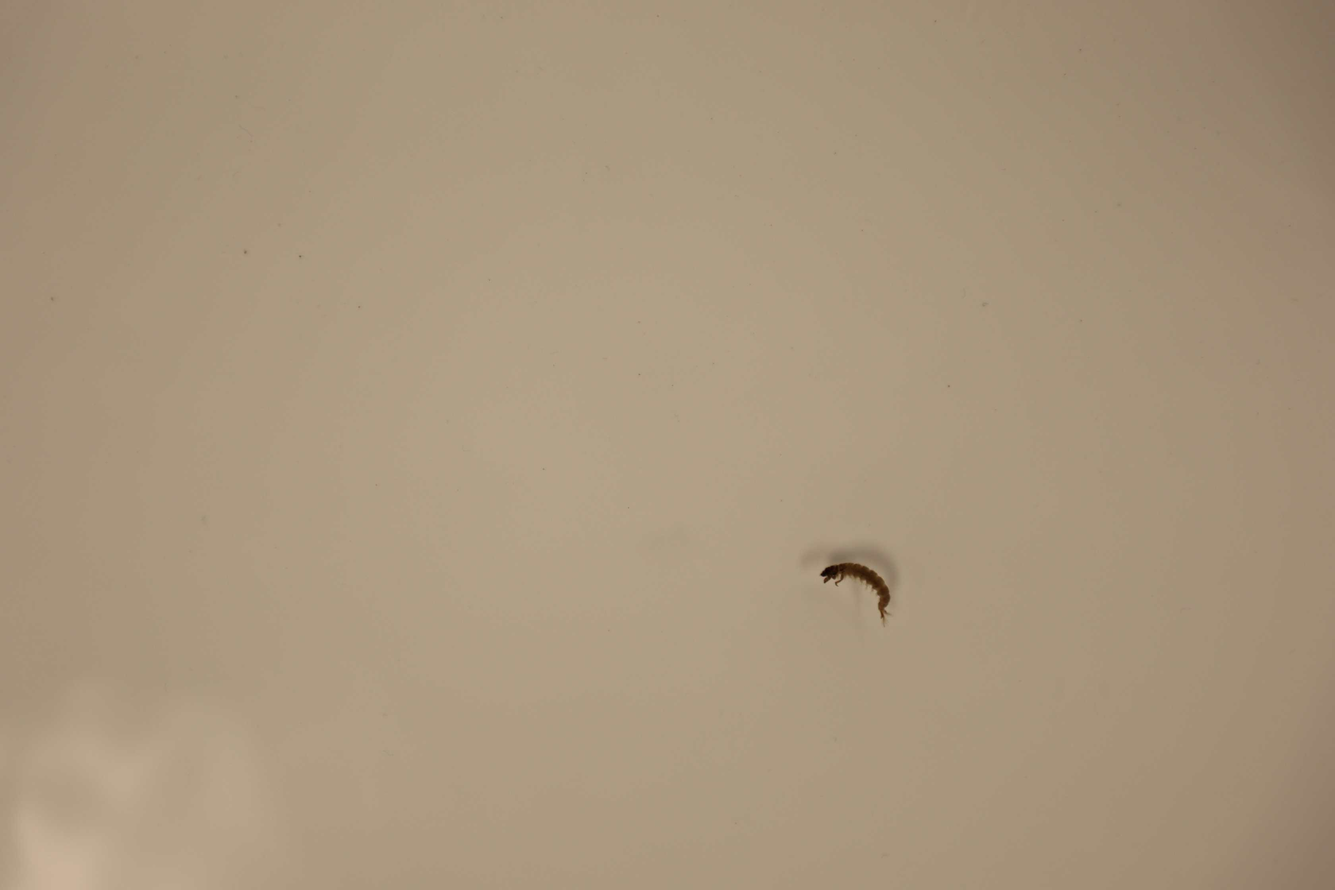Cadisfly: (814, 556, 897, 627)
